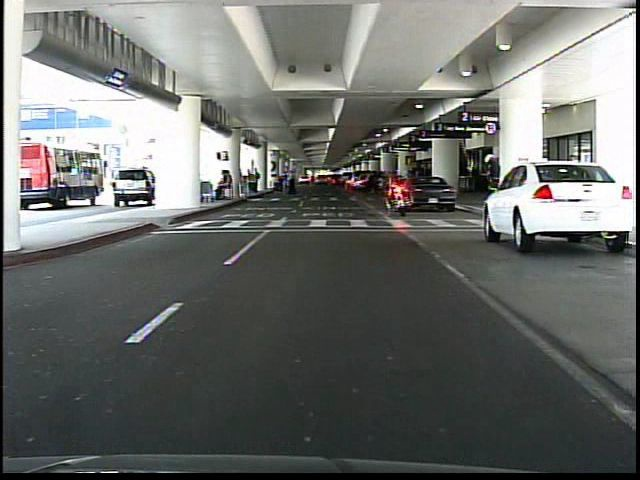person: (476, 149, 503, 222)
